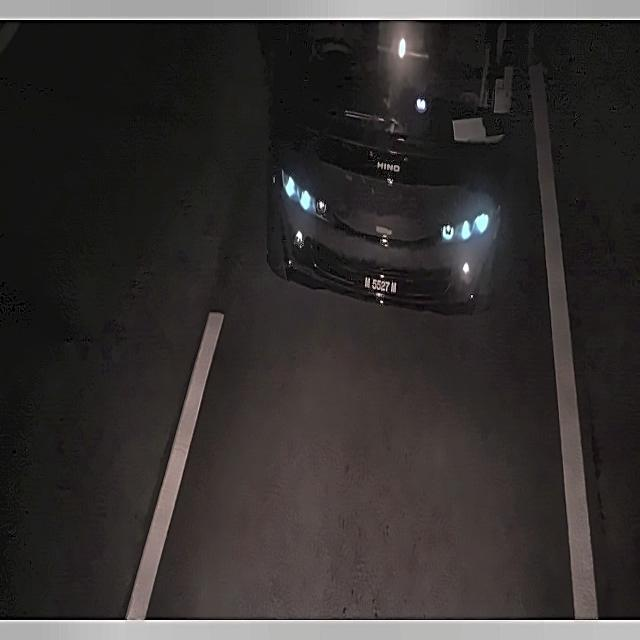car: (355, 271, 401, 301)
